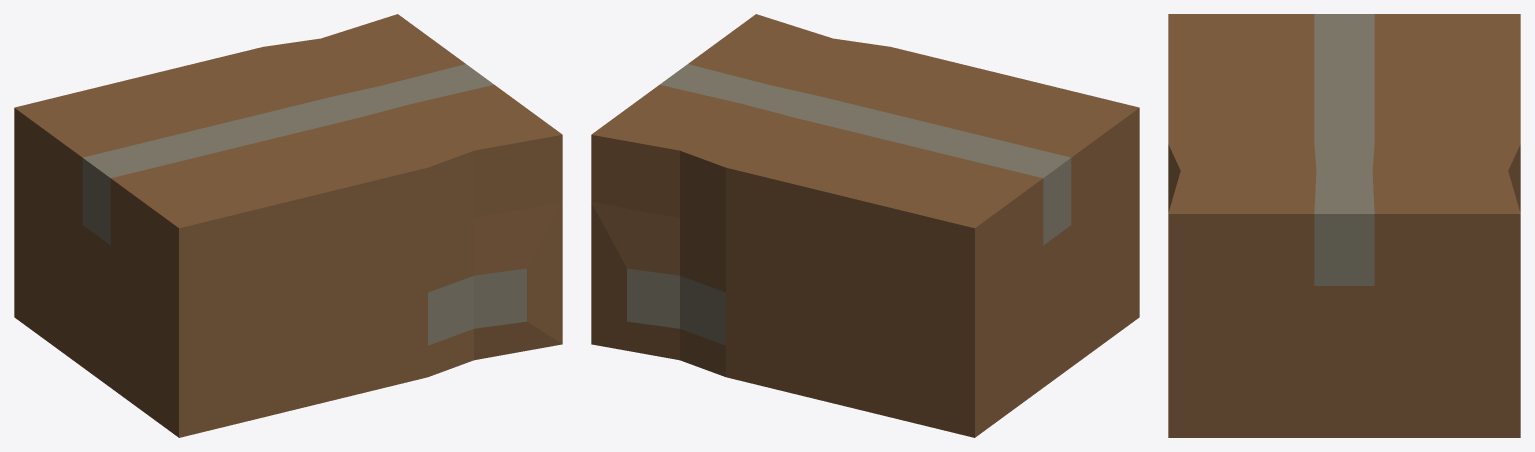
The model's file is boxes.glb.
3 views of the same model, side by side, from view 1: azimuth 30°, elevation 25°; view 2: azimuth 150°, elevation 25°; view 3: azimuth 270°, elevation 25° (orthographic). The views are drawn at different scales.
Visible parts, largest first — view 1: boxes; view 2: boxes; view 3: boxes.
Part boxes in pixels (box(x1,y1,x2,y2)): boxes: box(14, 14, 562, 437); boxes: box(591, 14, 1139, 437); boxes: box(1168, 14, 1520, 437).
Bounding box in the file's own units: 1 × 0.5221 × 0.7448.
